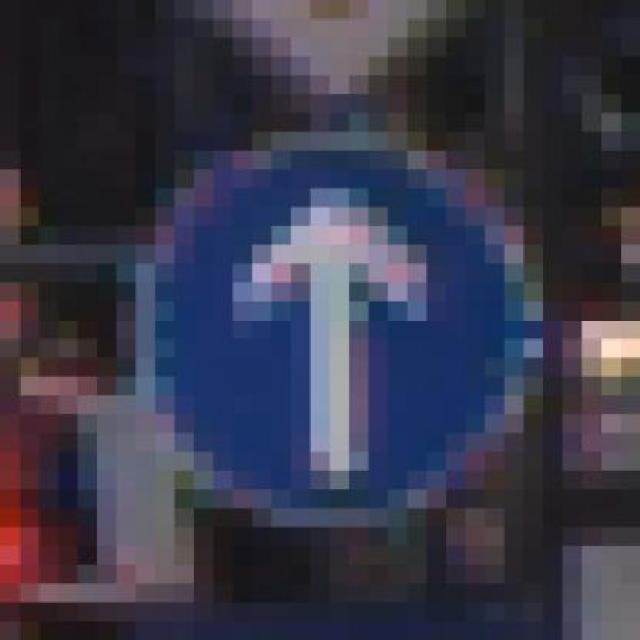Straight Ahead Only: (116, 94, 544, 546)
